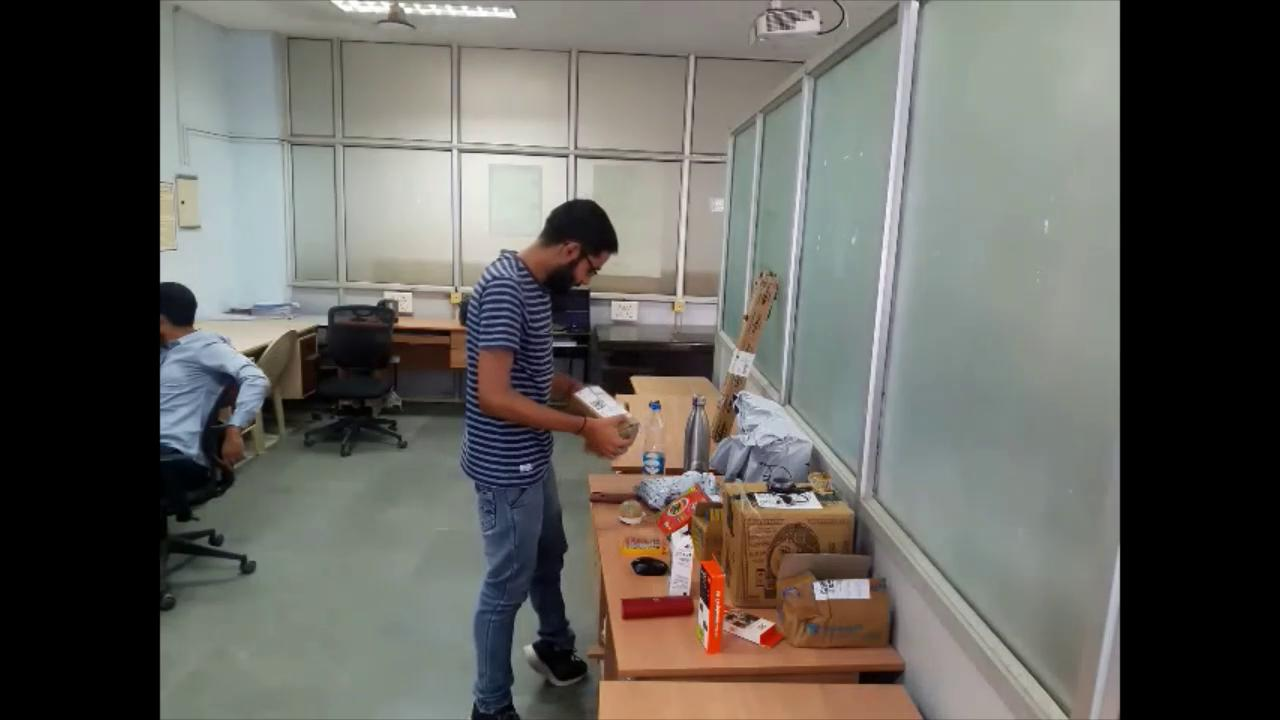Normal: (441, 166, 649, 720)
